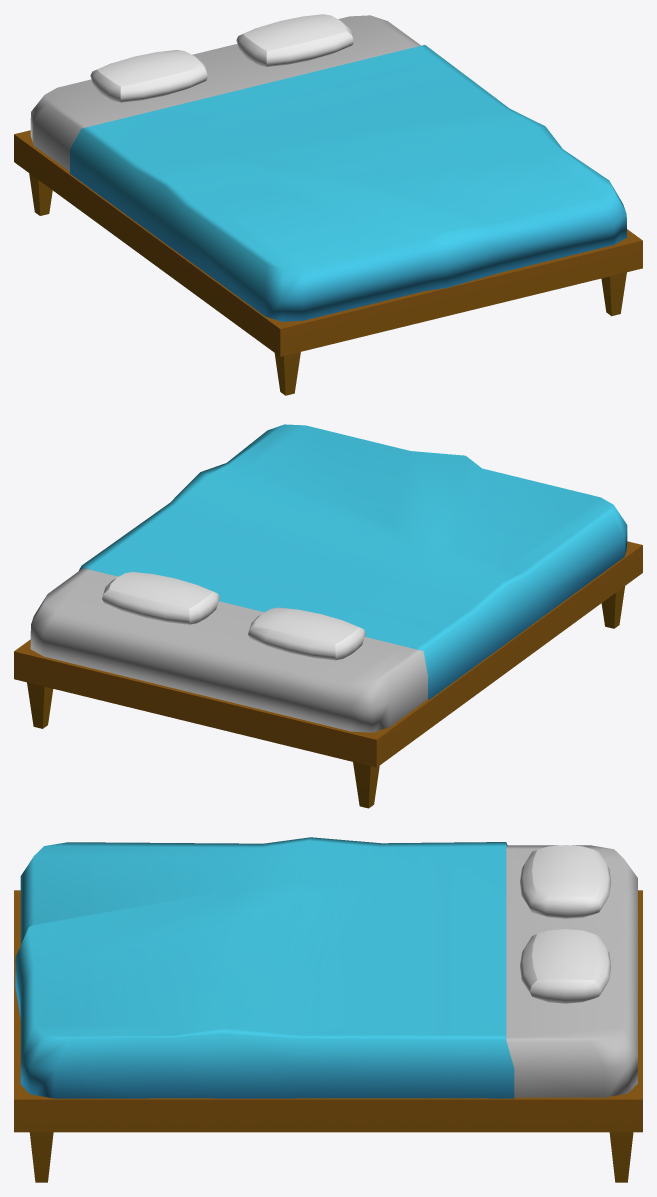
The model's file is Bed.fbx.
3 renders of one model, top to bottom at view 1: azimuth 30°, elevation 25°; view 2: azimuth 150°, elevation 25°; view 3: azimuth 270°, elevation 25°, orthographic. The views are drawn at different scales.
Visible parts, largest first — view 1: Bed; view 2: Bed; view 3: Bed.
Boxes of the visible parts, x1,y1,x2,y2 form: Bed: (14,14,642,395); Bed: (14,424,642,808); Bed: (14,837,642,1182).
Bounding box in the file's own units: 1.7 × 0.6575 × 2.16.
